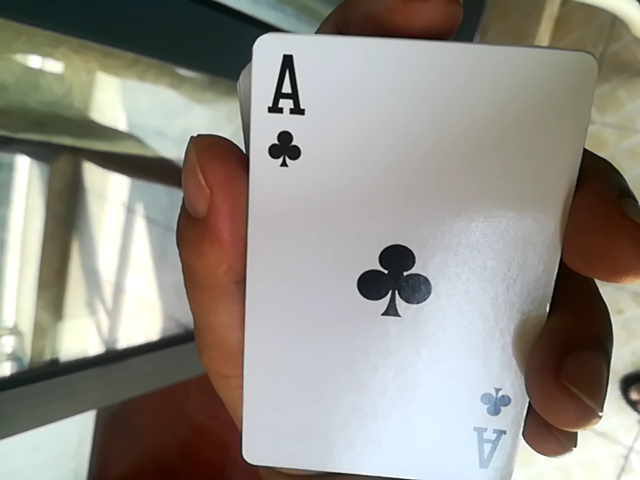mh a: (227, 45, 586, 475)
